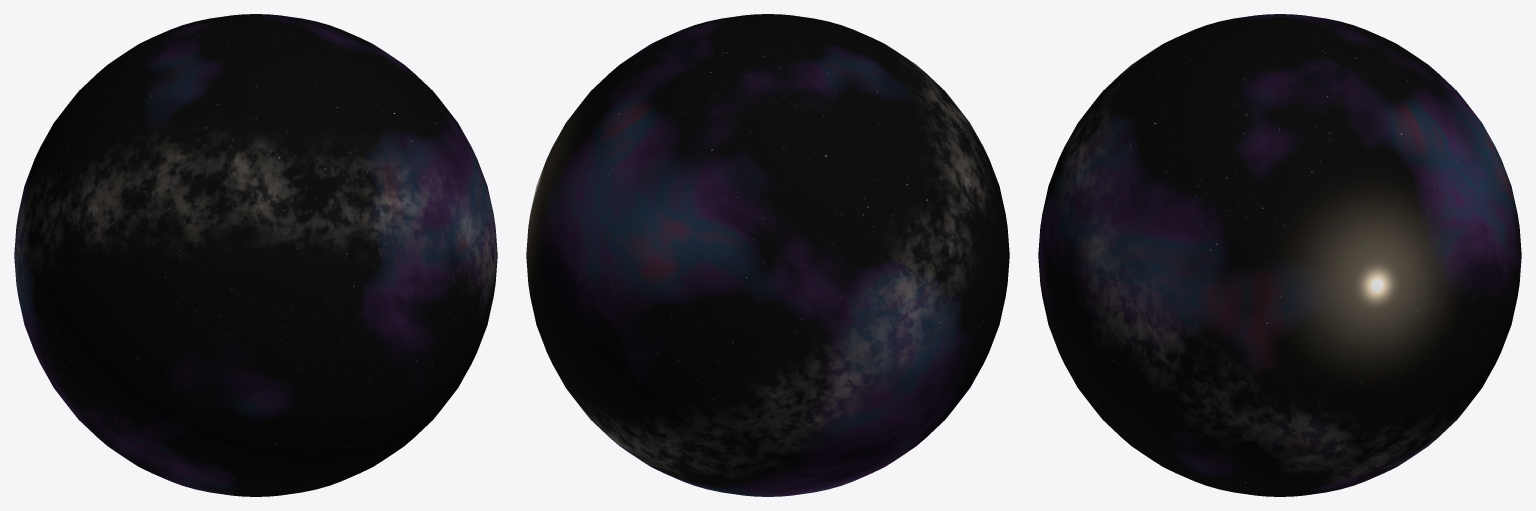
Rendered from space.glb.
The picture shows the model from 3 angles, left to right: view 1: azimuth 30°, elevation 25°; view 2: azimuth 150°, elevation 25°; view 3: azimuth 270°, elevation 25°; orthographic projection.
Parts seen in each view (by area): view 1: sky; view 2: sky; view 3: sky.
Boxes of the visible parts, x1,y1,x2,y2 form: sky: (14,14,497,496); sky: (526,14,1009,496); sky: (1038,14,1521,496).
Size of the model in its own units: 840 by 840 by 840.
Materials: 11 (4 with a texture image).
